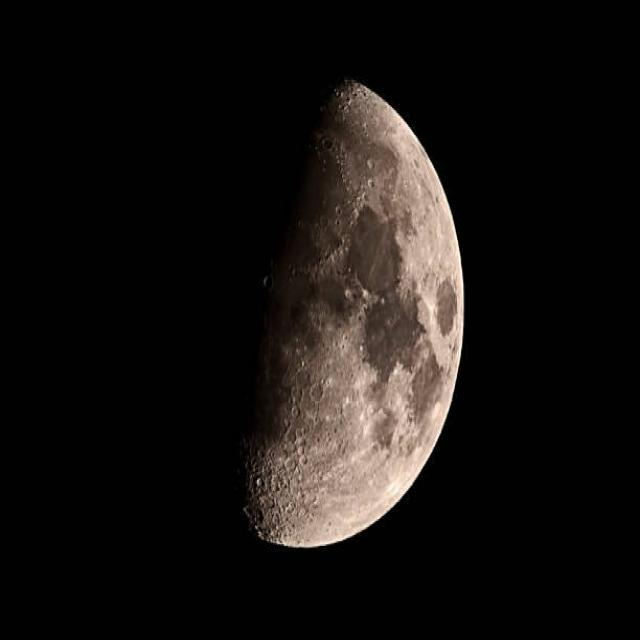moon: (103, 38, 465, 586)
